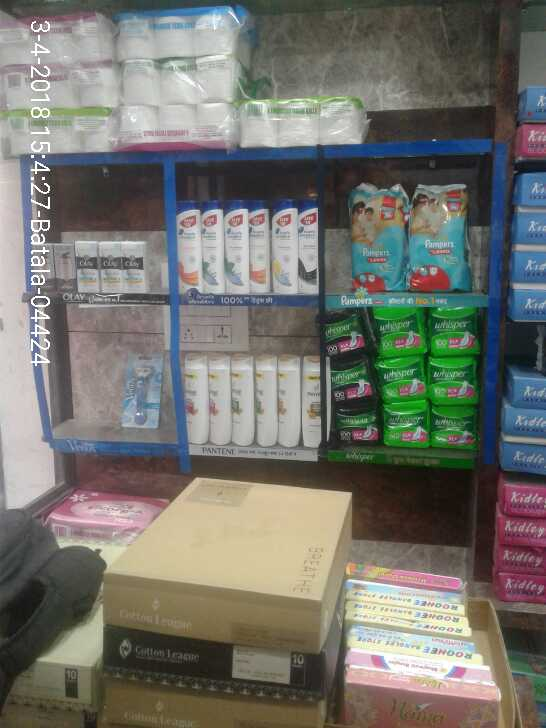venus: (121, 352, 162, 432)
